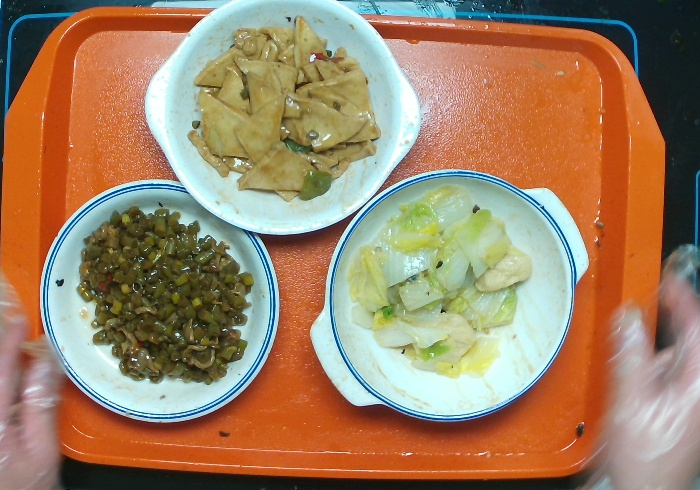HZYJPL-Dai_Er_Bai_Yuan_Wan: (144, 1, 419, 238)
HZYJPL-Lan_Bian_Dai_Er_Wan: (301, 169, 589, 419)
HZYJPL-Lan_Bian_Yuan_Die: (44, 181, 282, 420)
